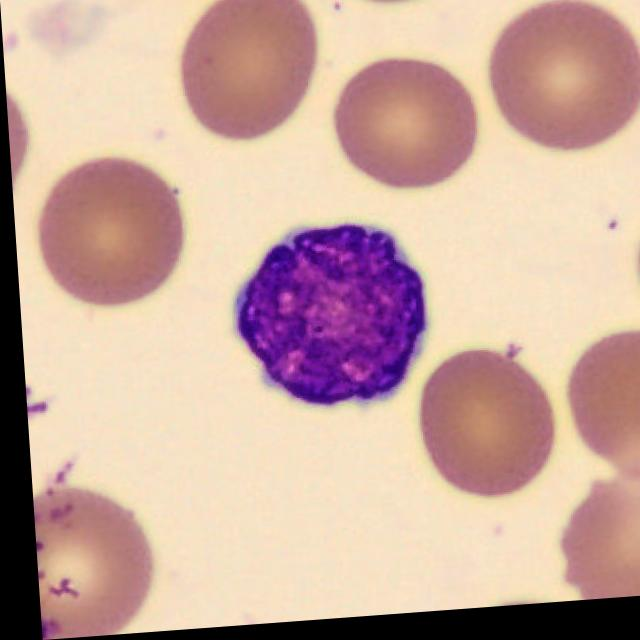Linfocito: (229, 229, 425, 414)
